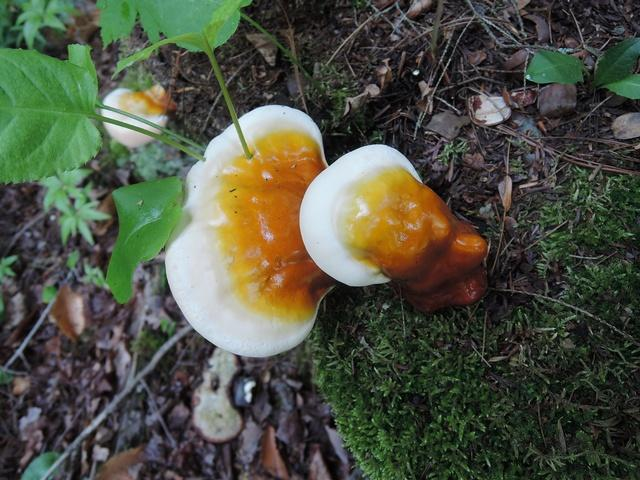poisonous_mushroom: (163, 103, 338, 358), (298, 142, 489, 312)
